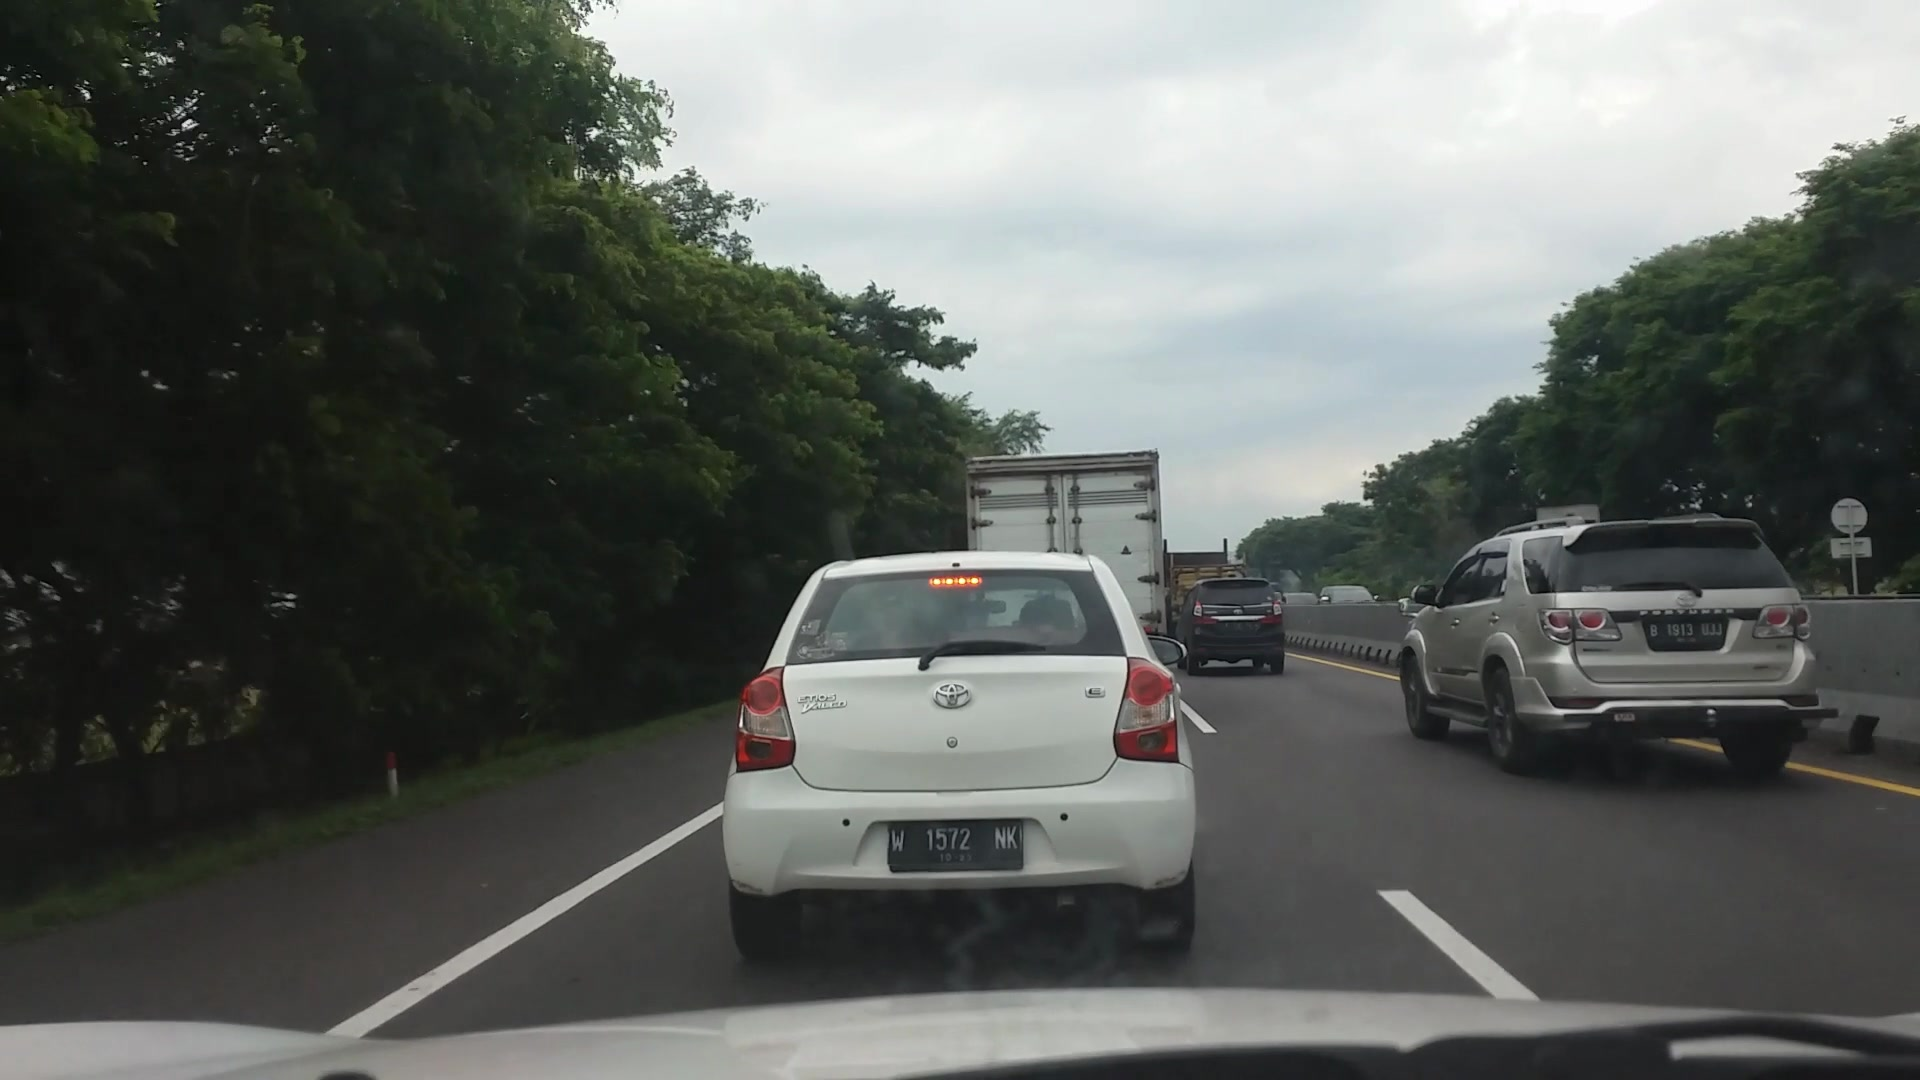plate_positive: (887, 819, 1023, 873)
